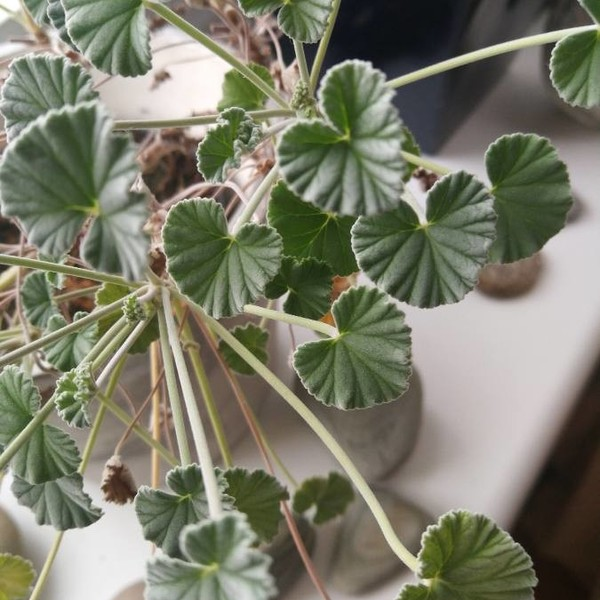obstacle: (50, 29, 546, 573)
